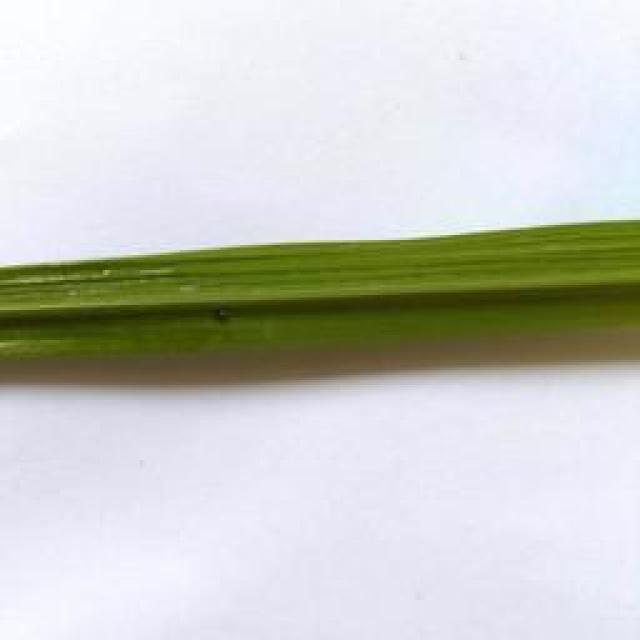Healthy-Plant: (0, 218, 640, 364)
